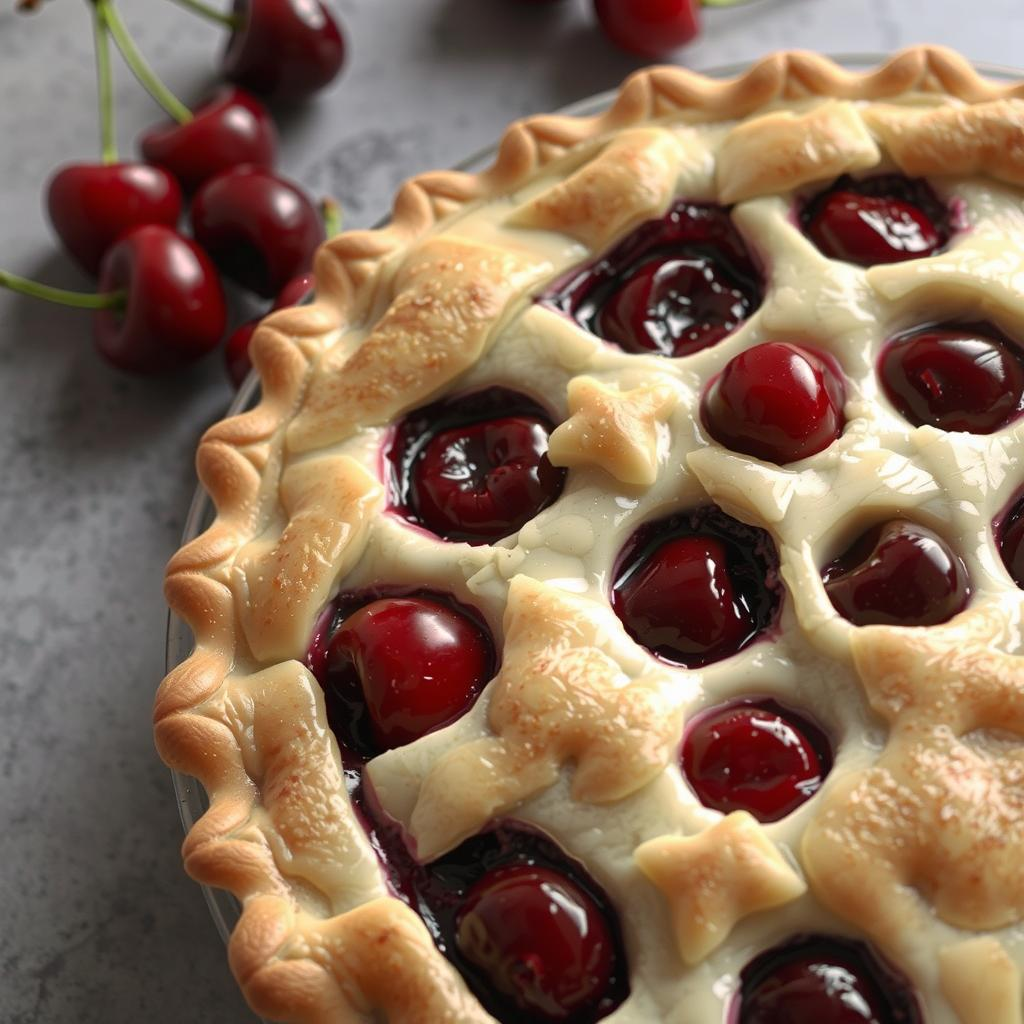pie: (151, 31, 1024, 1024)
